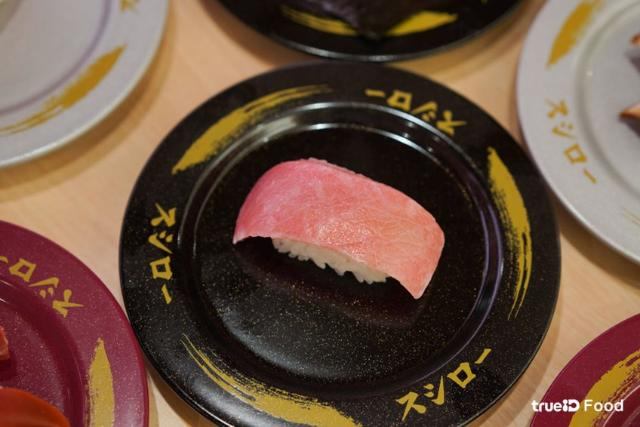janback: (130, 72, 552, 427), (189, 2, 498, 55)
janred: (3, 202, 153, 427), (552, 303, 639, 427)
janwhite: (528, 0, 640, 256), (0, 0, 159, 175)
